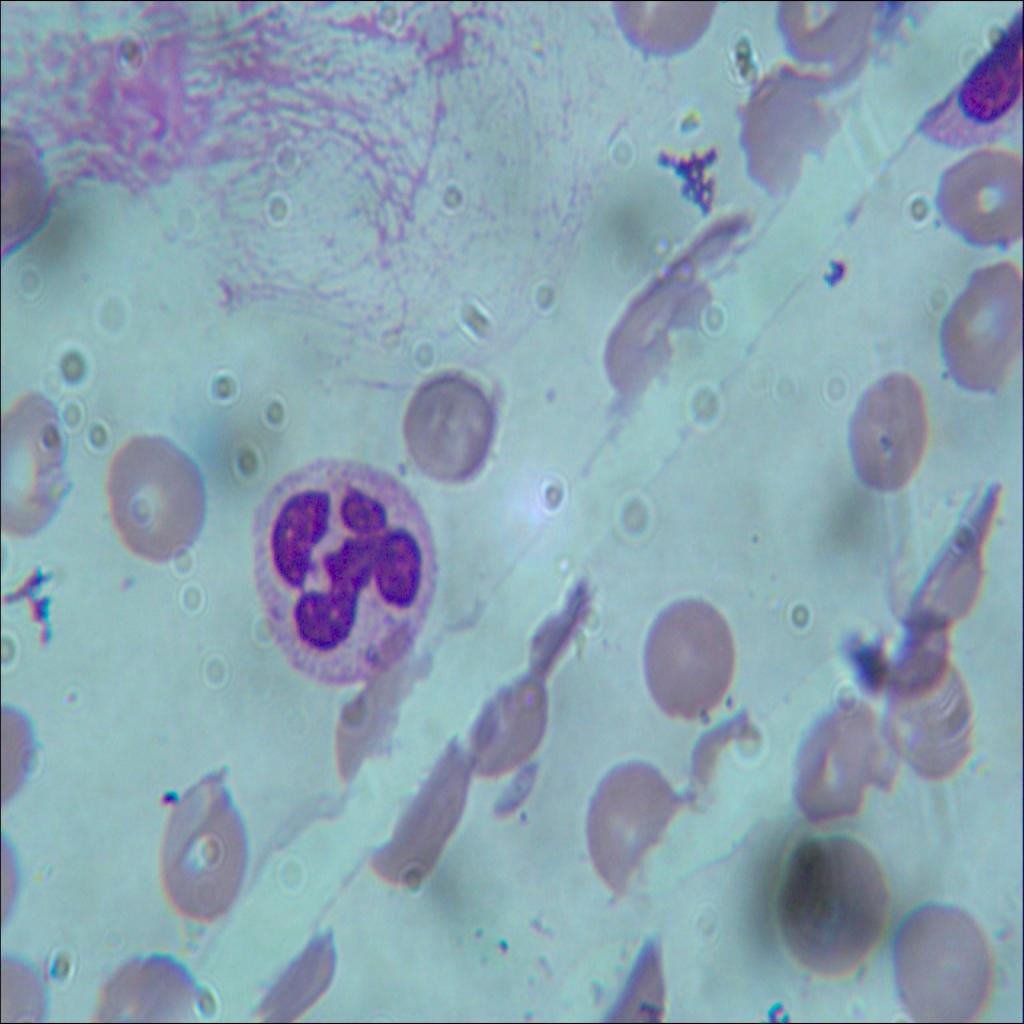Eritrosit: (778, 839, 890, 994), (629, 591, 750, 725), (106, 431, 210, 571), (159, 757, 246, 924), (793, 676, 886, 822), (894, 892, 998, 1018), (932, 257, 1022, 398), (588, 762, 683, 890), (884, 657, 974, 784), (848, 366, 929, 498), (403, 365, 494, 479), (0, 392, 71, 538), (938, 147, 1023, 248)
Neutrofil: (255, 461, 439, 685)
Platelet: (816, 248, 861, 302), (155, 778, 176, 808)
